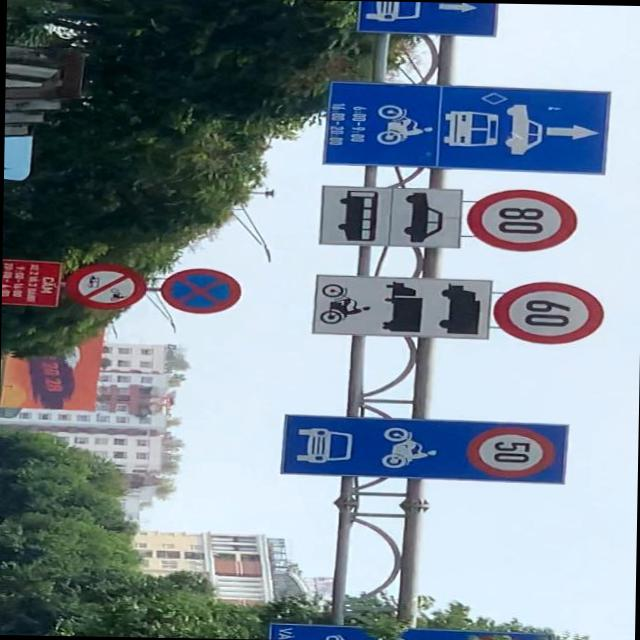P-104: (62, 264, 148, 308)
P-127: (492, 281, 602, 345), (466, 188, 576, 250)
P-130: (160, 268, 242, 314)
